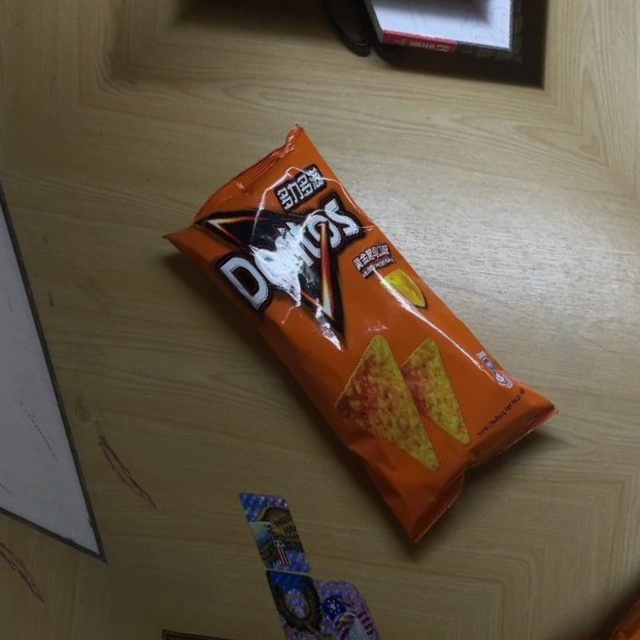Doritos: (155, 110, 564, 545)
